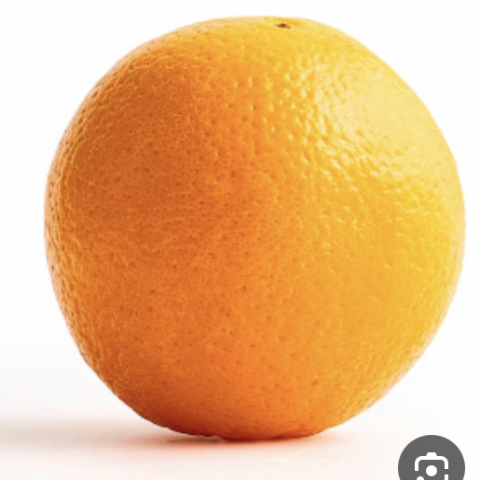orange: (1, 12, 480, 479)
